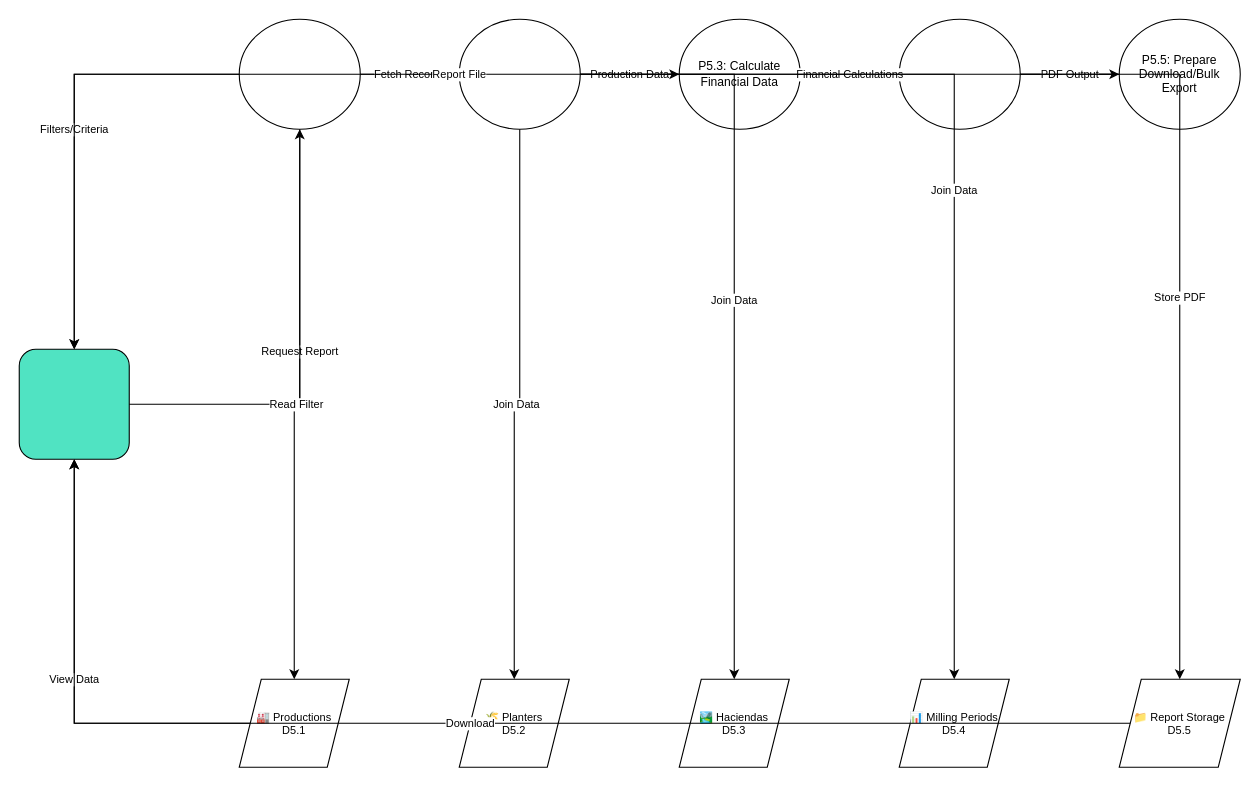
This 1260x787 diagram has some shape labels left out. Here are the shapes that lost their labels. From the top down, the centre of each, then its label:
At pixel 299 73: "P5.1: Query Production Data".
At pixel 519 73: "P5.2: Retrieve Related Data".
At pixel 959 73: "P5.4: Generate PDF Report".
At pixel 73 403: "👤 User".
